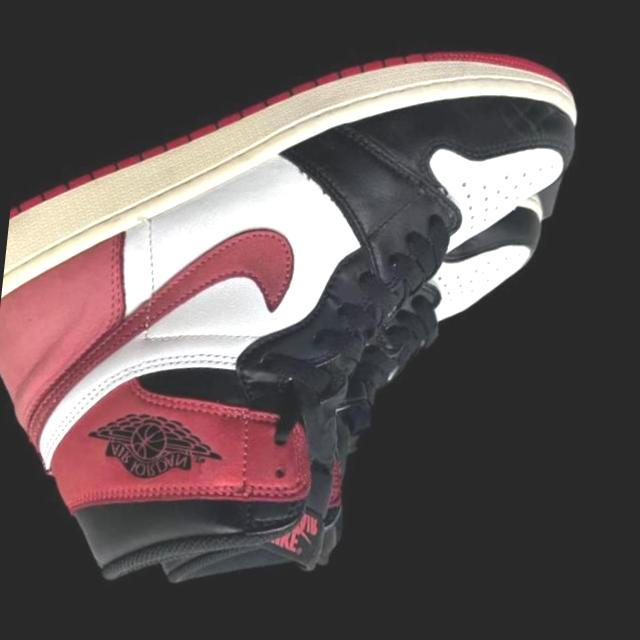nike_original_jordan: (0, 0, 640, 640), (62, 147, 640, 640)
